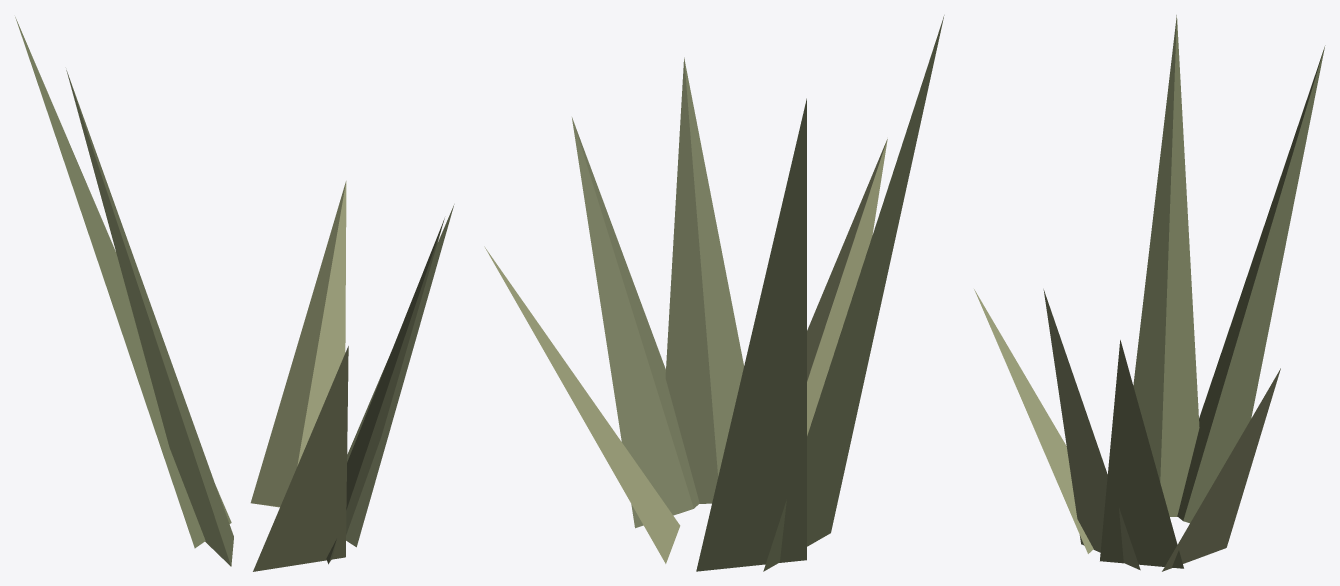
Rendered from grass_tuft.fbx.
The picture shows the model from 3 angles, left to right: view 1: azimuth 30°, elevation 25°; view 2: azimuth 150°, elevation 25°; view 3: azimuth 270°, elevation 25°; orthographic projection. The views are drawn at different scales.
Parts seen in each view (by area): view 1: grass_tuft; view 2: grass_tuft; view 3: grass_tuft.
Part boxes in pixels (bbox=[...]): grass_tuft: bbox=[15, 17, 454, 571]; grass_tuft: bbox=[484, 15, 944, 571]; grass_tuft: bbox=[974, 15, 1325, 571].
Size of the model in its own units: 0.1006 by 0.0989 by 0.1374.
